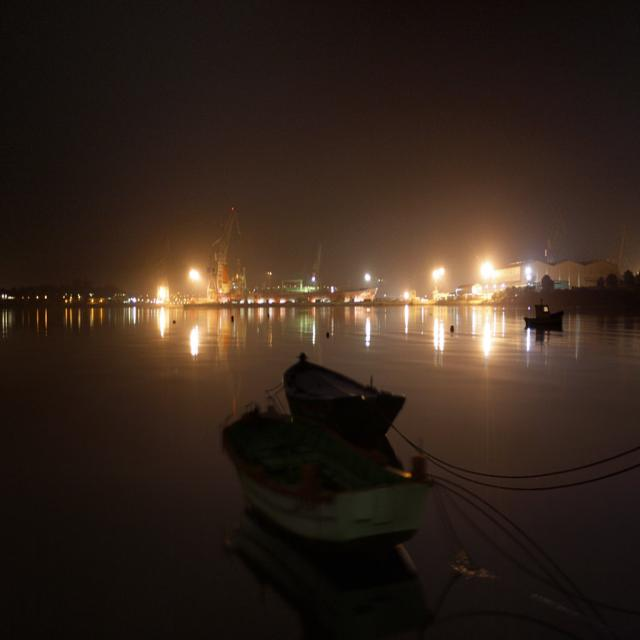Boat: (194, 403, 441, 625), (268, 304, 416, 439), (519, 273, 570, 357)
